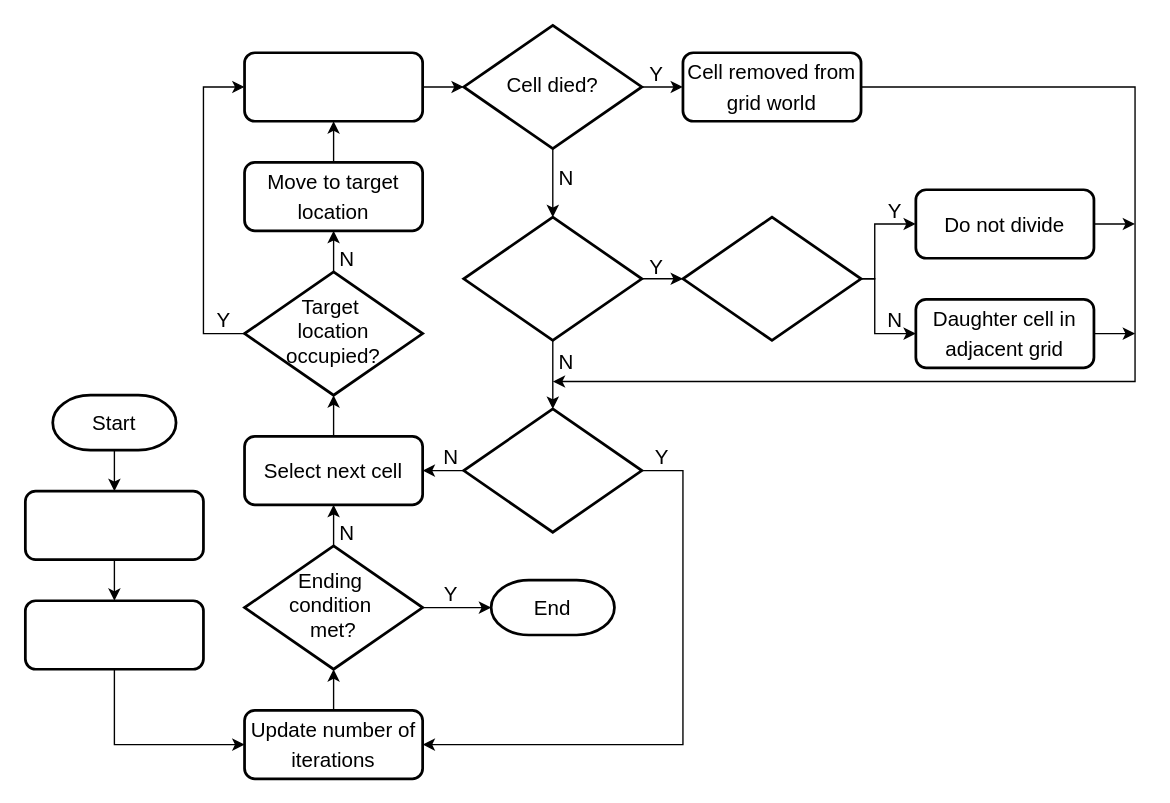
This 1170x803 diagram has some shape labels left out. Each missing label, with the box of its shape:
All adjacent grids occupied?: (681, 215, 862, 341)
All cells have acted?: (462, 407, 643, 533)
Cell divided?: (462, 215, 643, 341)
Cell take action: (242, 51, 423, 122)
Initialise the grid world: (23, 489, 204, 560)
Randomly locate cells: (23, 599, 204, 670)
